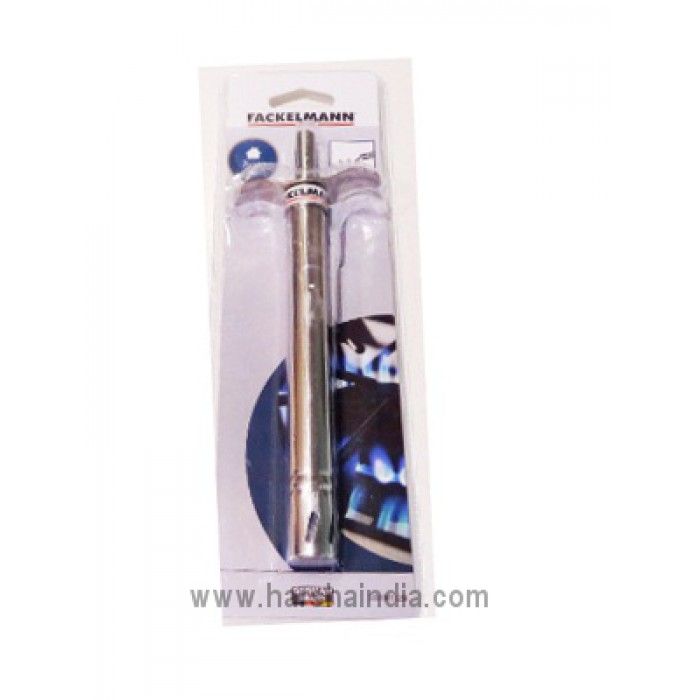Nonrec_Other: (221, 87, 412, 567)
